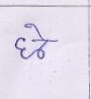e_matra: (24, 23, 47, 39)
